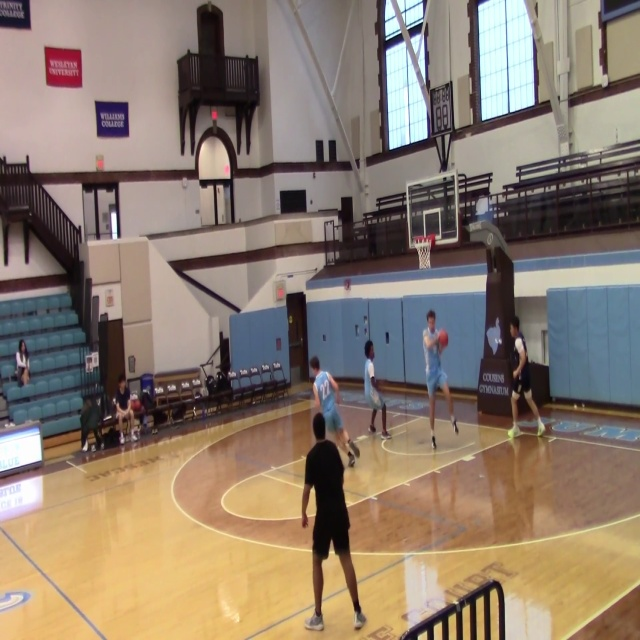Basketball: (437, 329, 448, 348), (130, 400, 141, 411)
